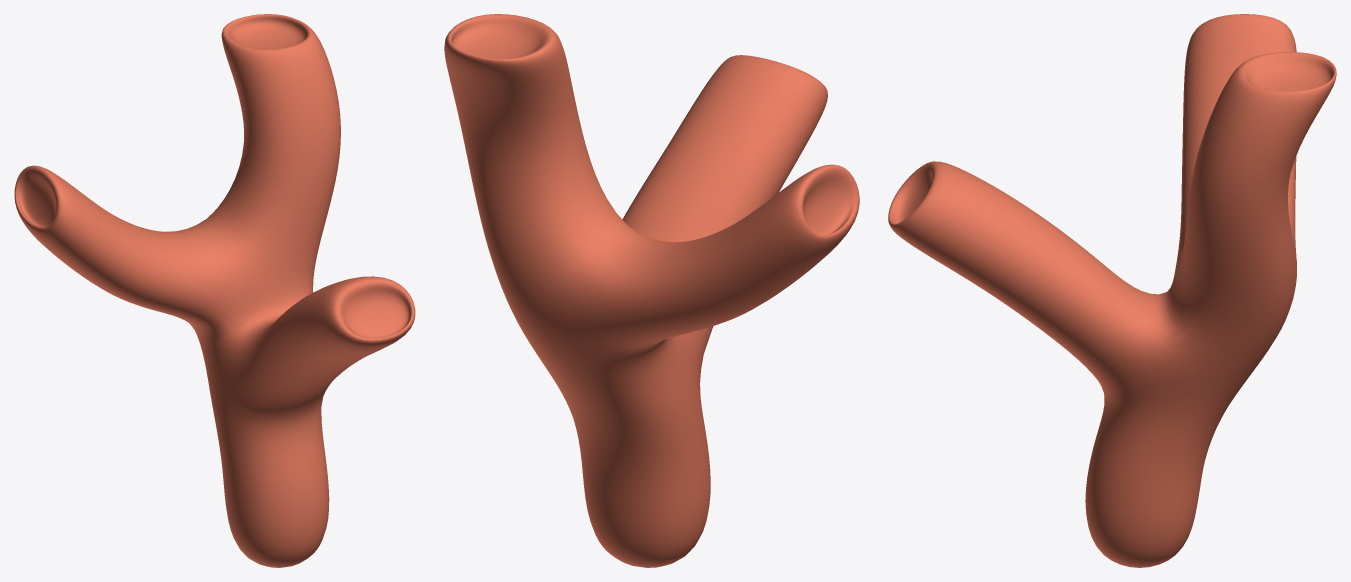
File: Coral1.fbx
3 renders of one model, left to right at view 1: azimuth 30°, elevation 25°; view 2: azimuth 150°, elevation 25°; view 3: azimuth 270°, elevation 25°, orthographic. The views are drawn at different scales.
Visible parts, largest first — view 1: Cube; view 2: Cube; view 3: Cube.
Boxes of the visible parts, bbox=[...] form: Cube: bbox=[14, 14, 415, 567]; Cube: bbox=[444, 14, 859, 567]; Cube: bbox=[888, 14, 1336, 567].
Size of the model in its own units: 633 by 920 by 718.
